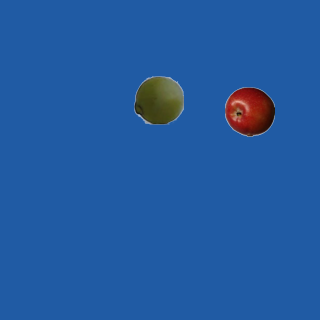Apple Braeburn: (224, 86, 274, 136)
Grape White 4: (133, 74, 183, 124)
